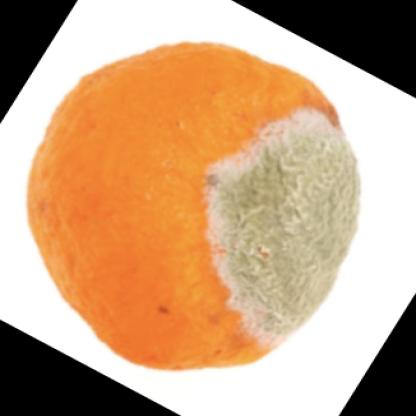rotten: (29, 45, 360, 374)
